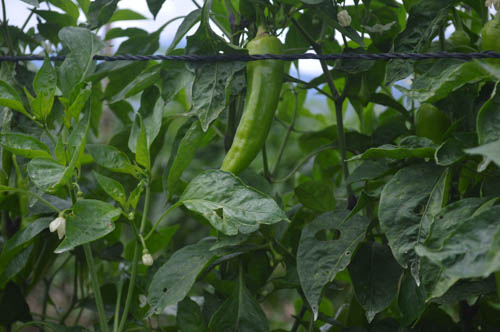ChiliPepper: (220, 39, 283, 182)
